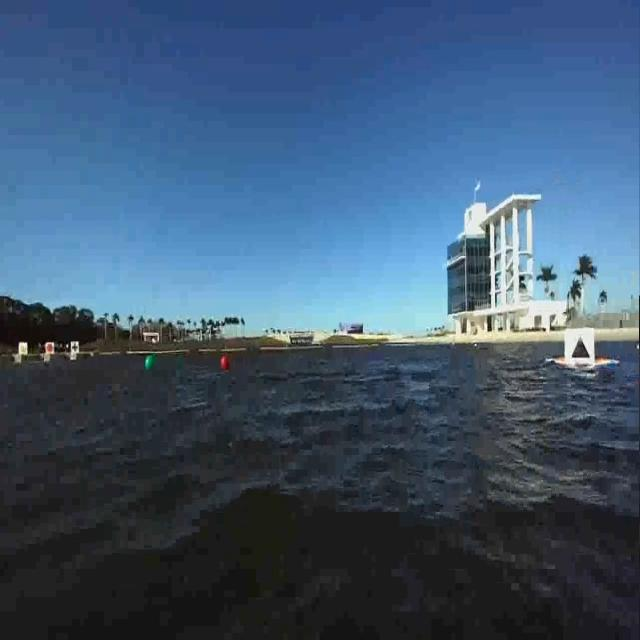green-buoy: (144, 355, 156, 369)
red-buoy: (221, 355, 229, 370)
